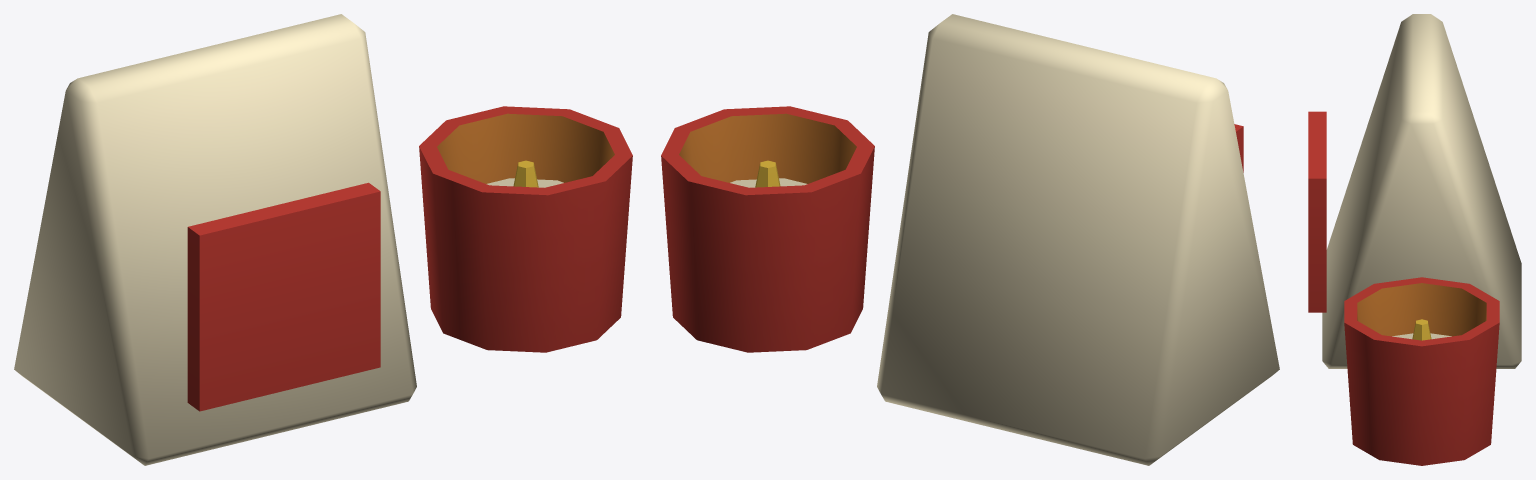
Rendered from SM_TableTent_Candle_01.glb.
The picture shows the model from 3 angles, left to right: view 1: azimuth 30°, elevation 25°; view 2: azimuth 150°, elevation 25°; view 3: azimuth 270°, elevation 25°; orthographic projection. The views are drawn at different scales.
Parts seen in each view (by area): view 1: SM_TableTent_Candle_01; view 2: SM_TableTent_Candle_01; view 3: SM_TableTent_Candle_01.
Part boxes in pixels (bbox=[...]): SM_TableTent_Candle_01: bbox=[14, 14, 632, 465]; SM_TableTent_Candle_01: bbox=[661, 14, 1279, 465]; SM_TableTent_Candle_01: bbox=[1308, 14, 1521, 465].
Size of the model in its own units: 0.211 by 0.125 by 0.0939.
1 material, 1 textured.
